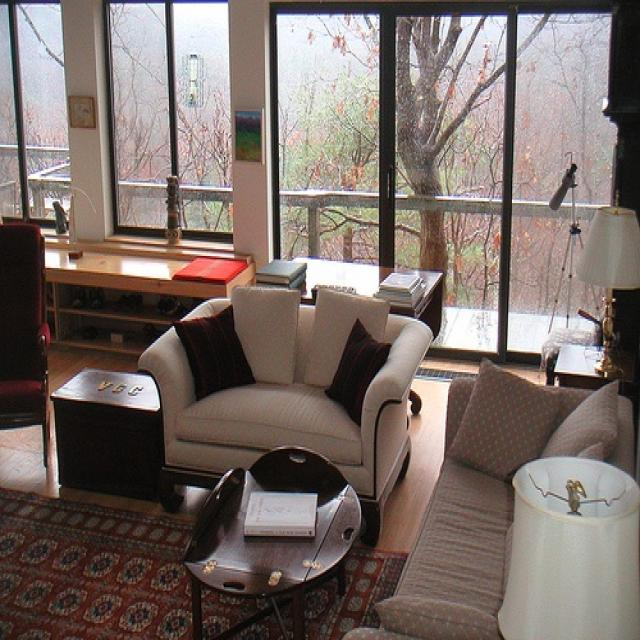chair: (3, 218, 51, 470)
sofa: (343, 355, 634, 638), (136, 283, 431, 546)
